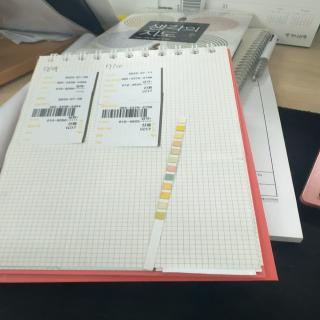mark: (156, 211, 165, 219), (168, 156, 178, 163), (166, 165, 176, 172), (160, 192, 170, 198), (159, 202, 167, 209), (163, 184, 172, 190), (166, 173, 173, 180), (171, 149, 179, 155), (178, 118, 186, 124), (176, 126, 185, 131), (173, 141, 181, 146), (175, 134, 183, 138)
